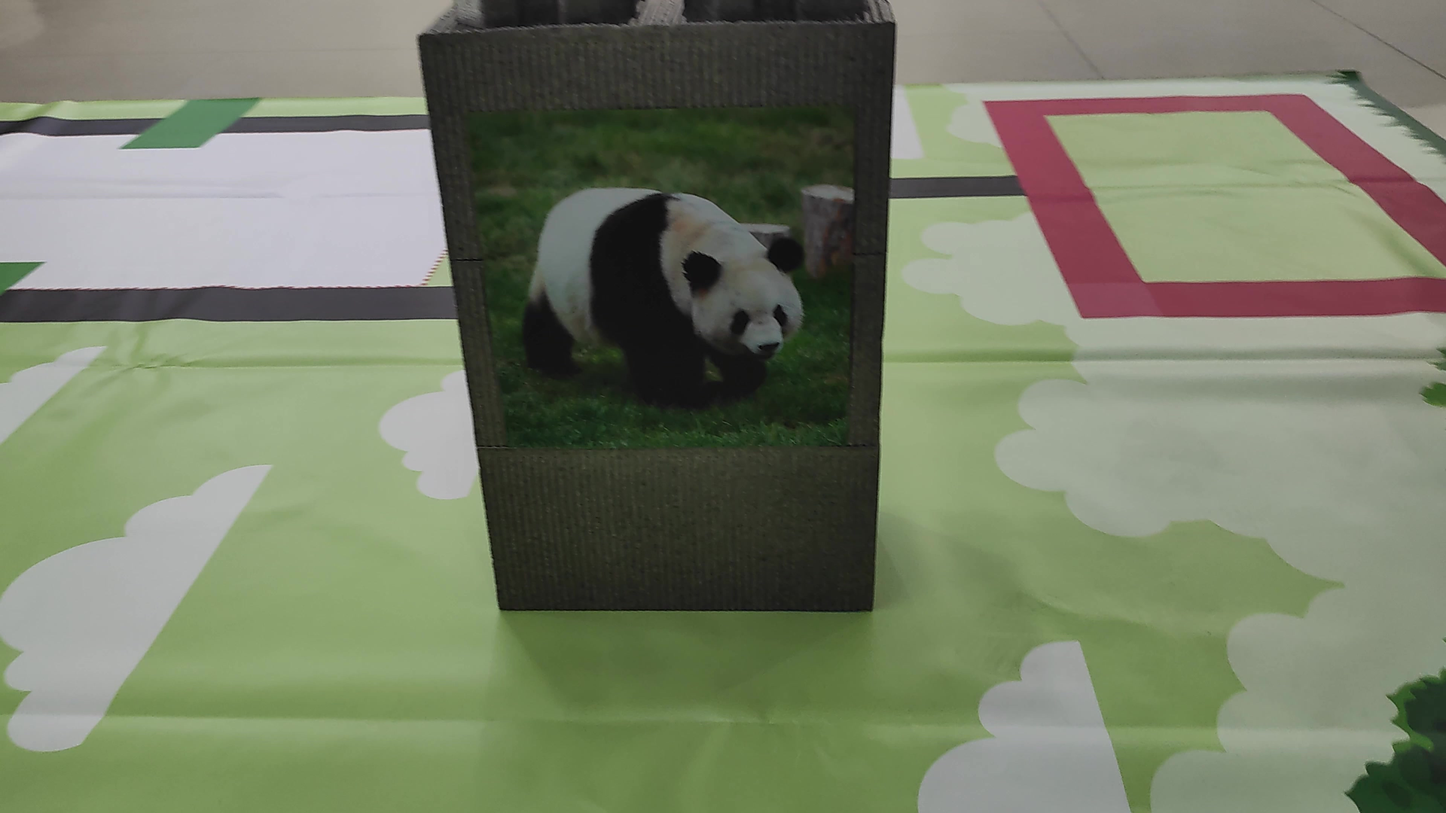panda: (503, 169, 829, 442)
